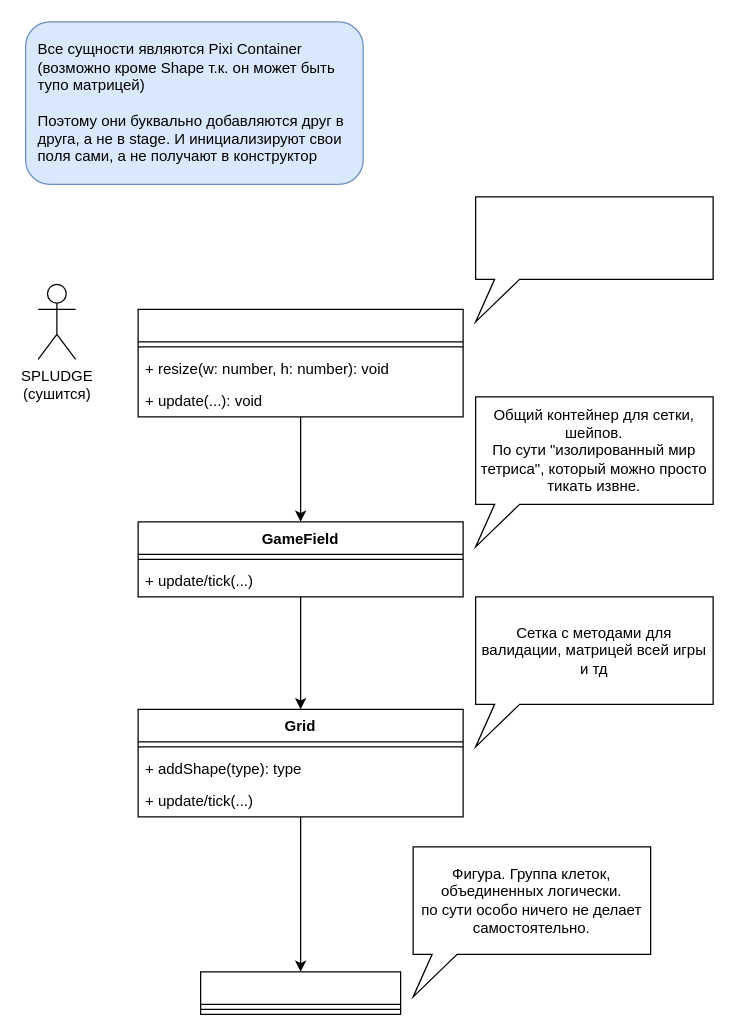
Image size: 735x1036. Some labels were removed from this diagram. Here are the shapes that lost their labels. From the top down, the box of each, then its label:
(474, 196, 713, 322): Занимается вписыванием поля в экран. И тикрейтом поля
(137, 308, 463, 417): GameScene
(199, 971, 401, 1014): Shape
